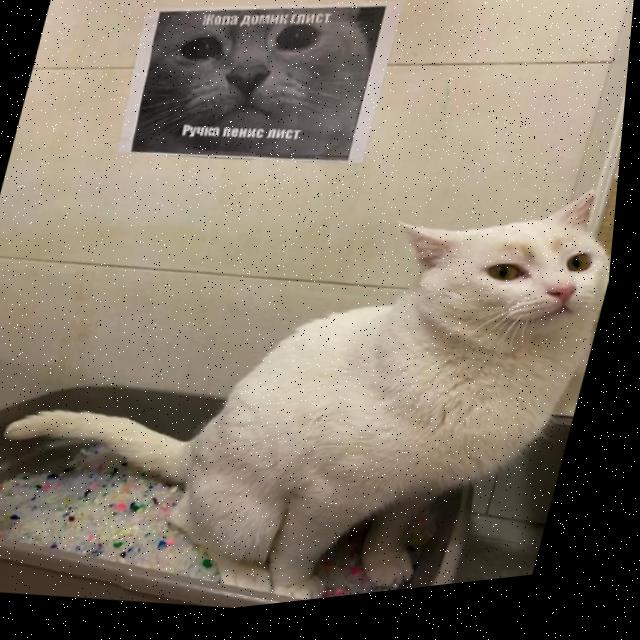Cats: (167, 144, 626, 621)
